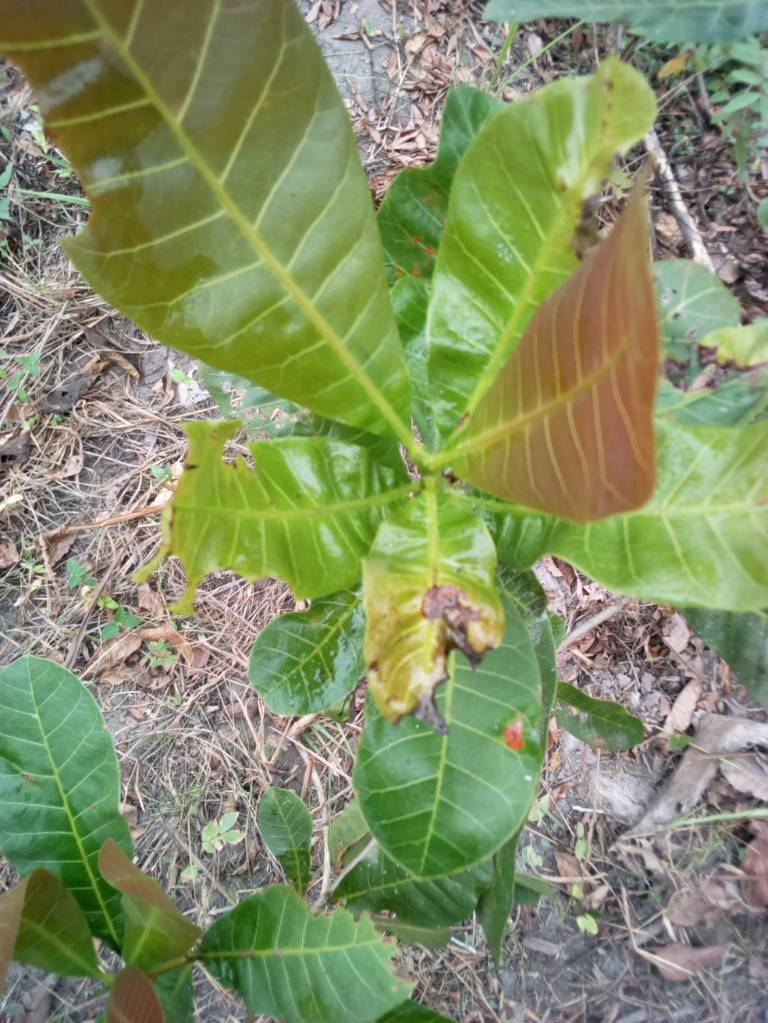Helopeltis anacardii: (152, 421, 416, 608), (361, 478, 519, 728)
